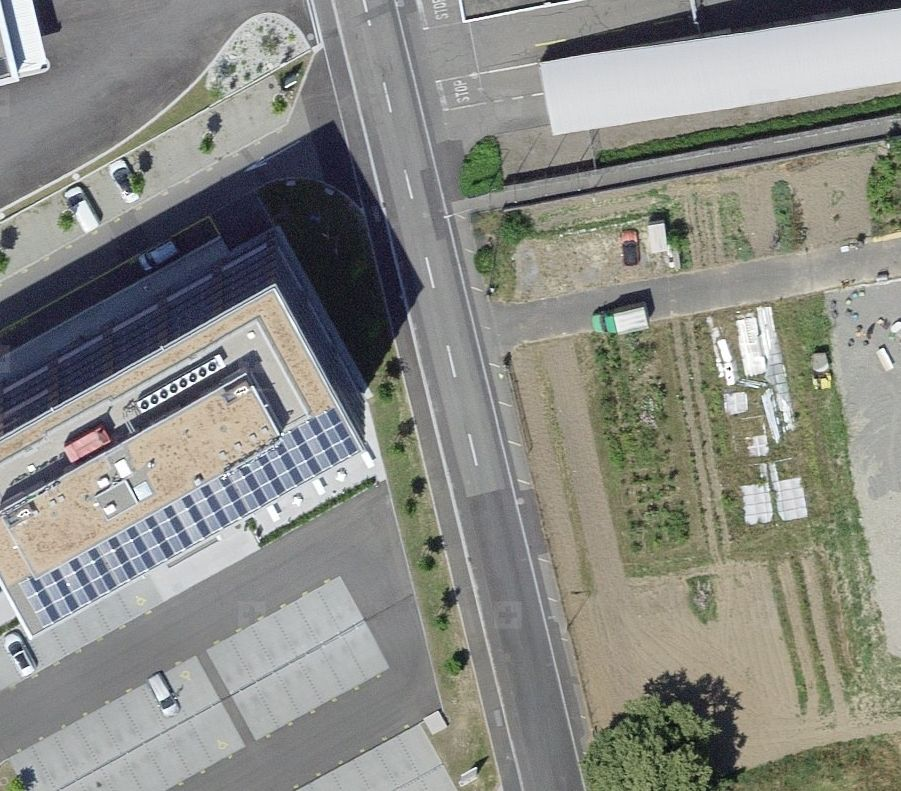solar: (20, 404, 363, 628)
